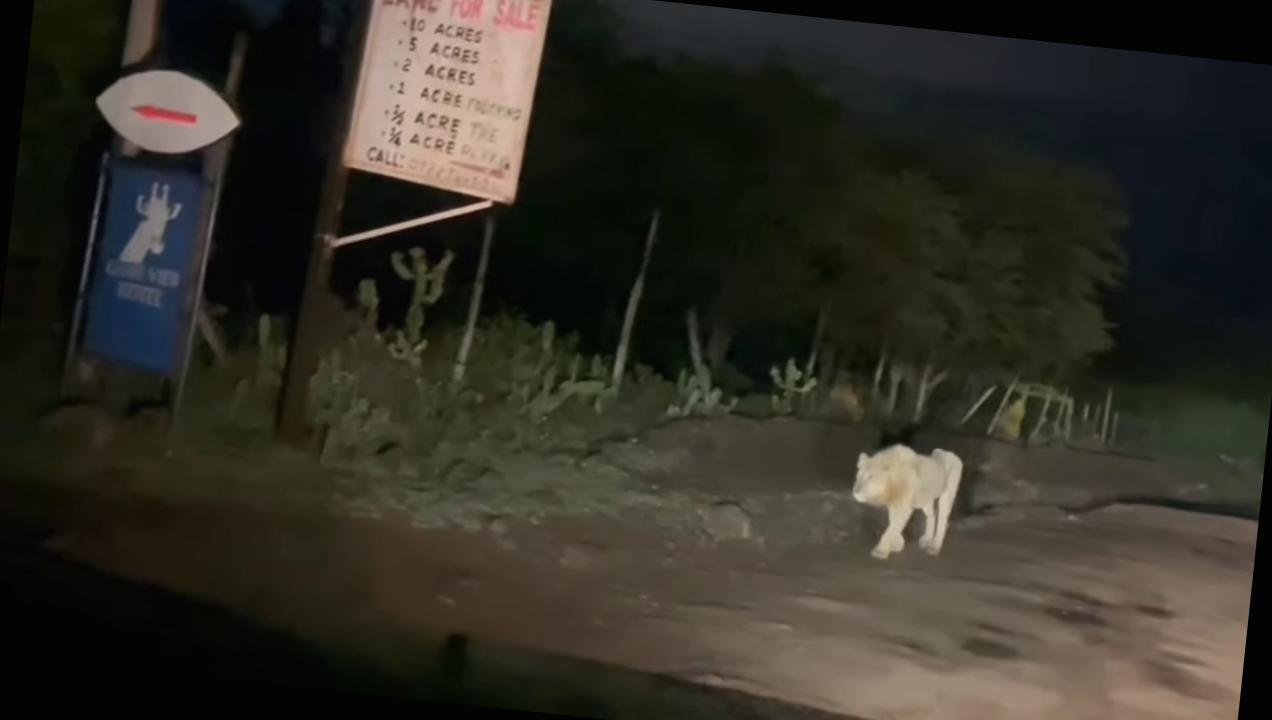lions: (828, 409, 979, 583)
